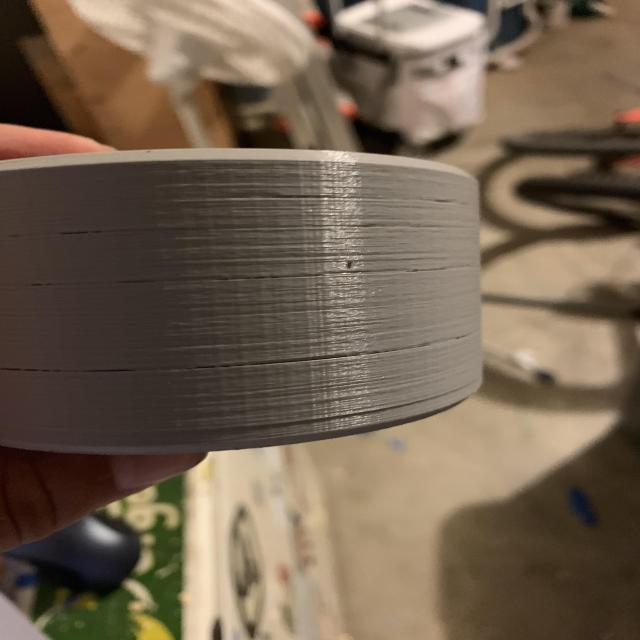cracks: (213, 332, 568, 376), (265, 250, 539, 284), (1, 359, 141, 384)
